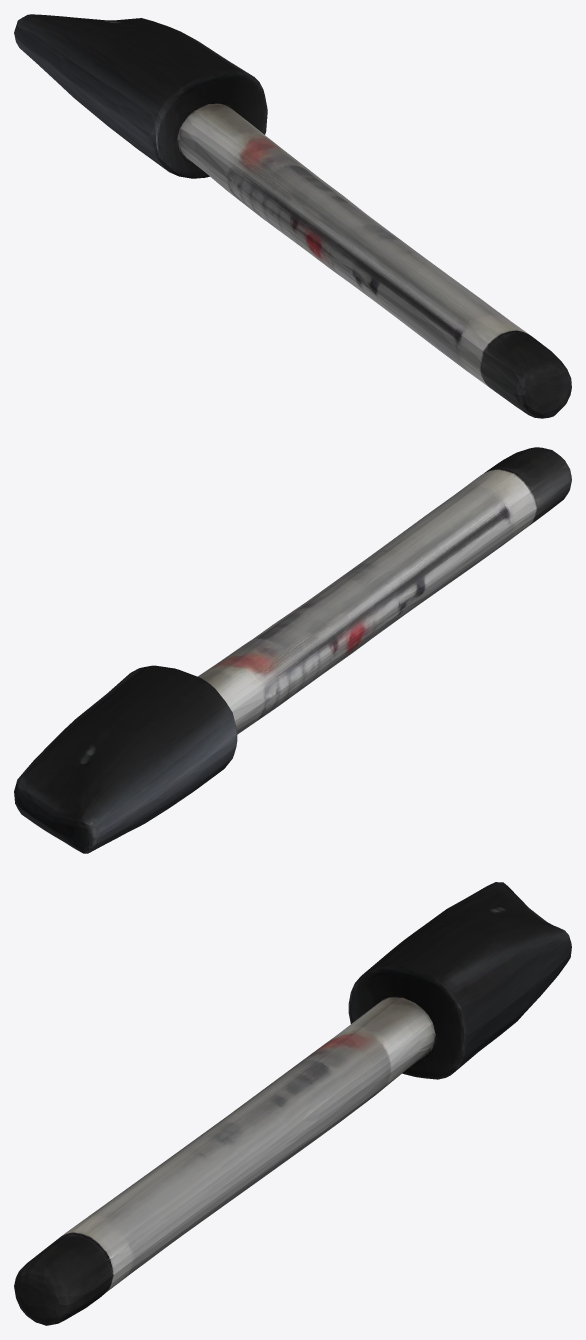
3 renders of one model, top to bottom at view 1: azimuth 30°, elevation 25°; view 2: azimuth 150°, elevation 25°; view 3: azimuth 330°, elevation 25°, orthographic. The views are drawn at different scales.
Visible parts, largest first — view 1: geometry_0; view 2: geometry_0; view 3: geometry_0.
Boxes of the visible parts, x1,y1,x2,y2 form: geometry_0: (14, 14, 571, 418); geometry_0: (14, 447, 571, 853); geometry_0: (14, 882, 571, 1325).
Bounding box in the file's own units: 0.1407 × 0.1178 × 0.9997.
1 material, 1 textured.
